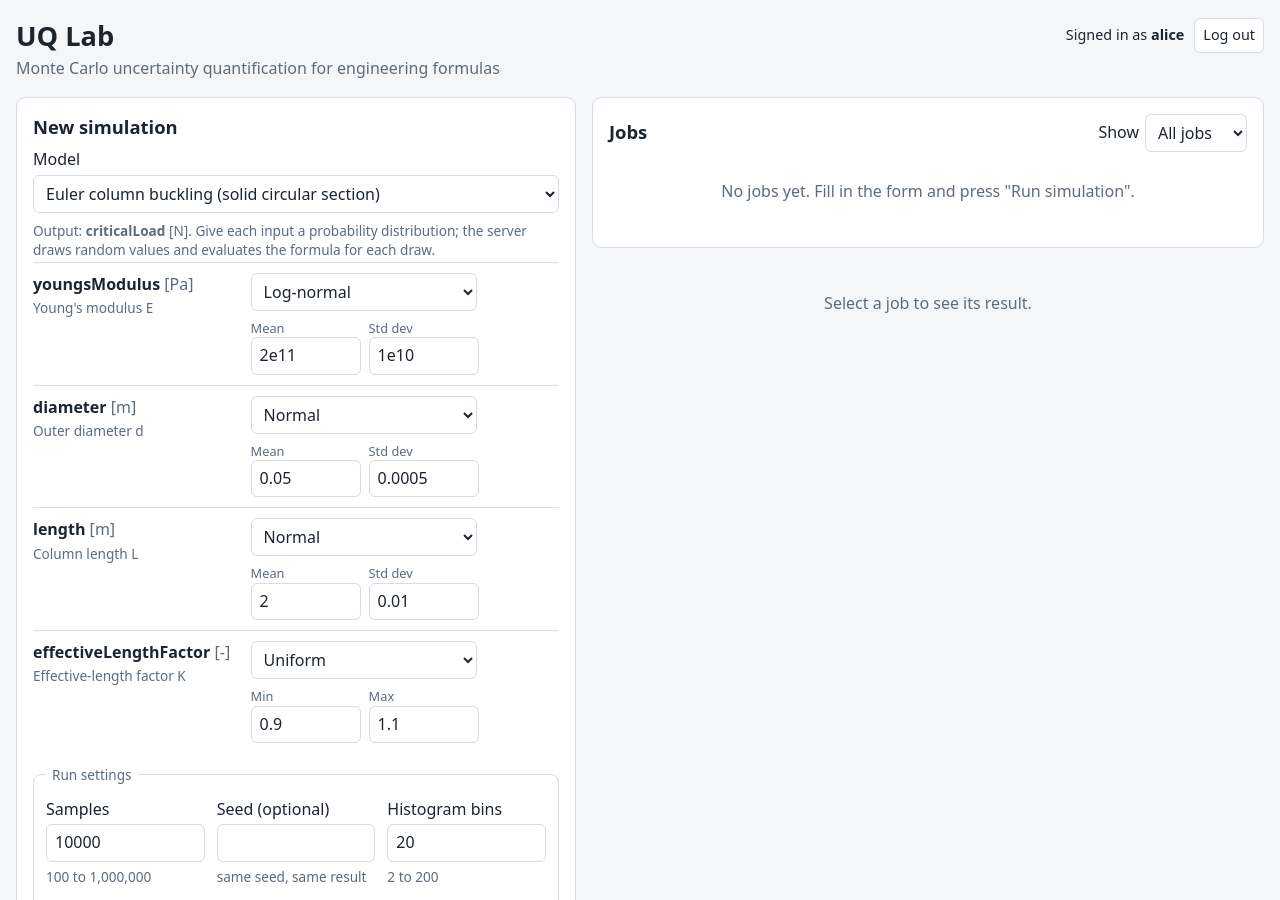
Test case: App › changes the number fields when the distribution type changes
Expected: the field named "length Mean" is shown, [251,583,361,620]
Select "Constant (known exactly)" in the dropdown named "length distribution": (364, 537) [251,518,477,556]
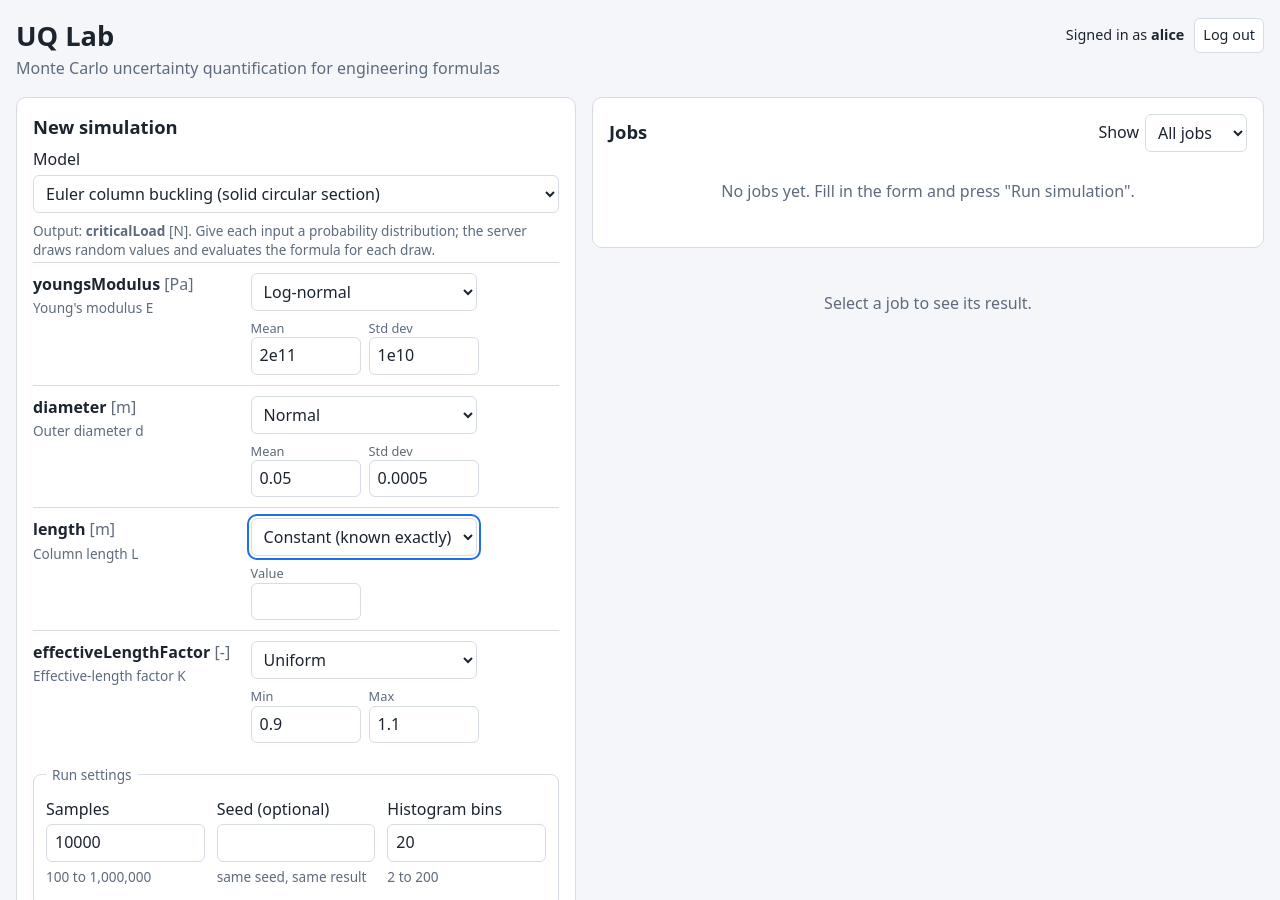
Now the field named "length Value" is shown, box [251,583,361,620]
